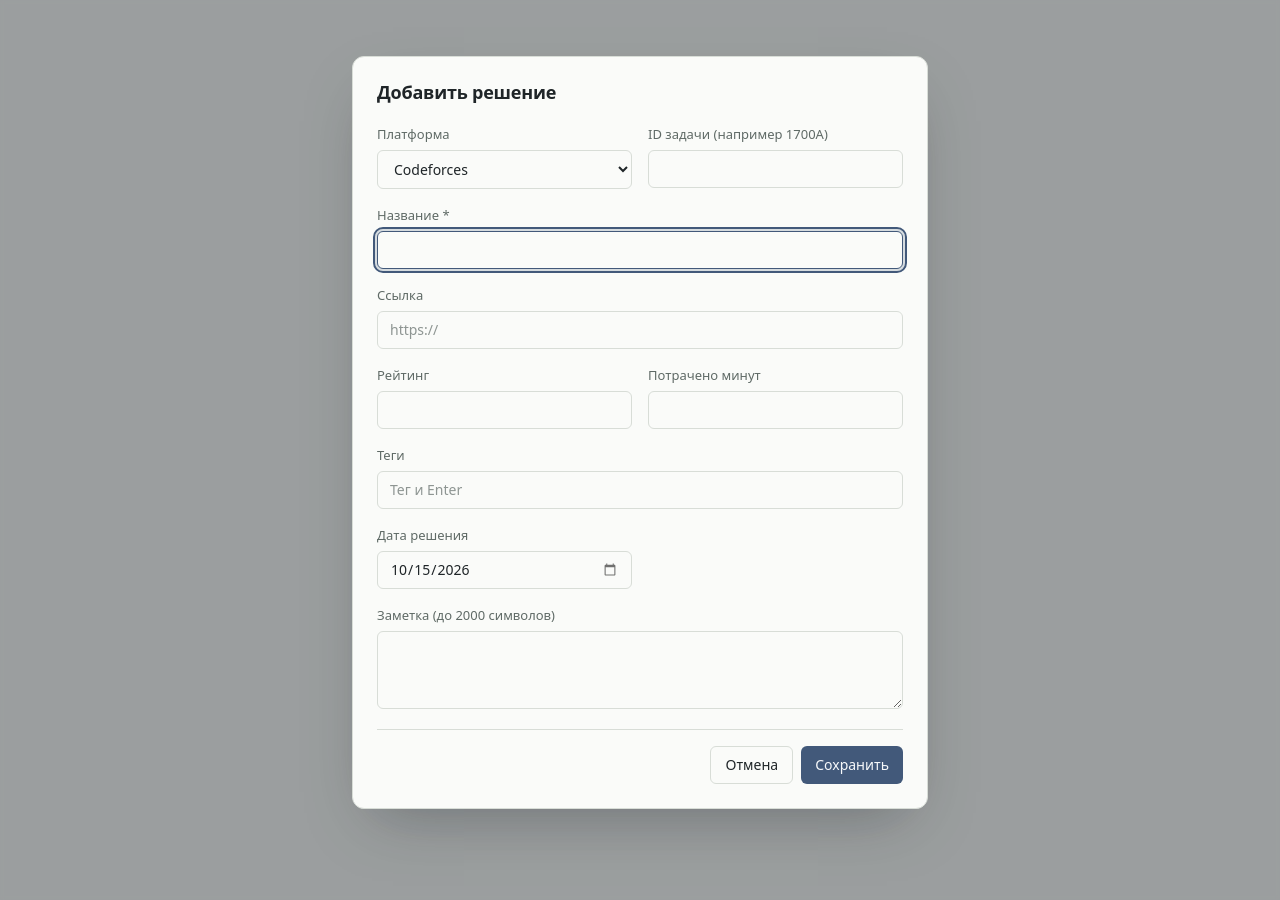
Test: <SolveFormModal> › shows the server error and stays open
In the field labelled "Название *": (640, 250) x1=377 y1=231 x2=903 y2=269, type "Dup"
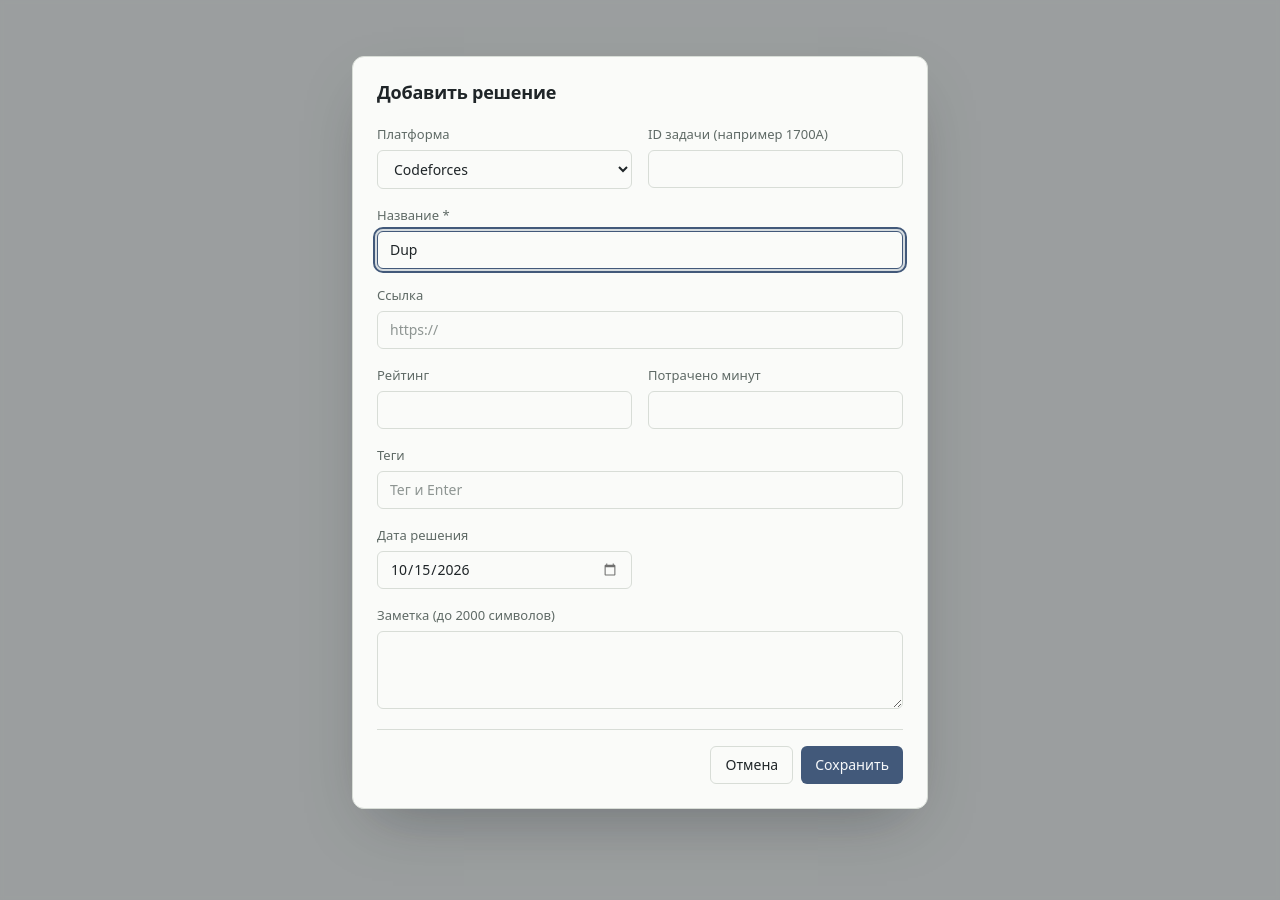
Click the button "Сохранить": click(852, 766) x1=801 y1=746 x2=903 y2=784
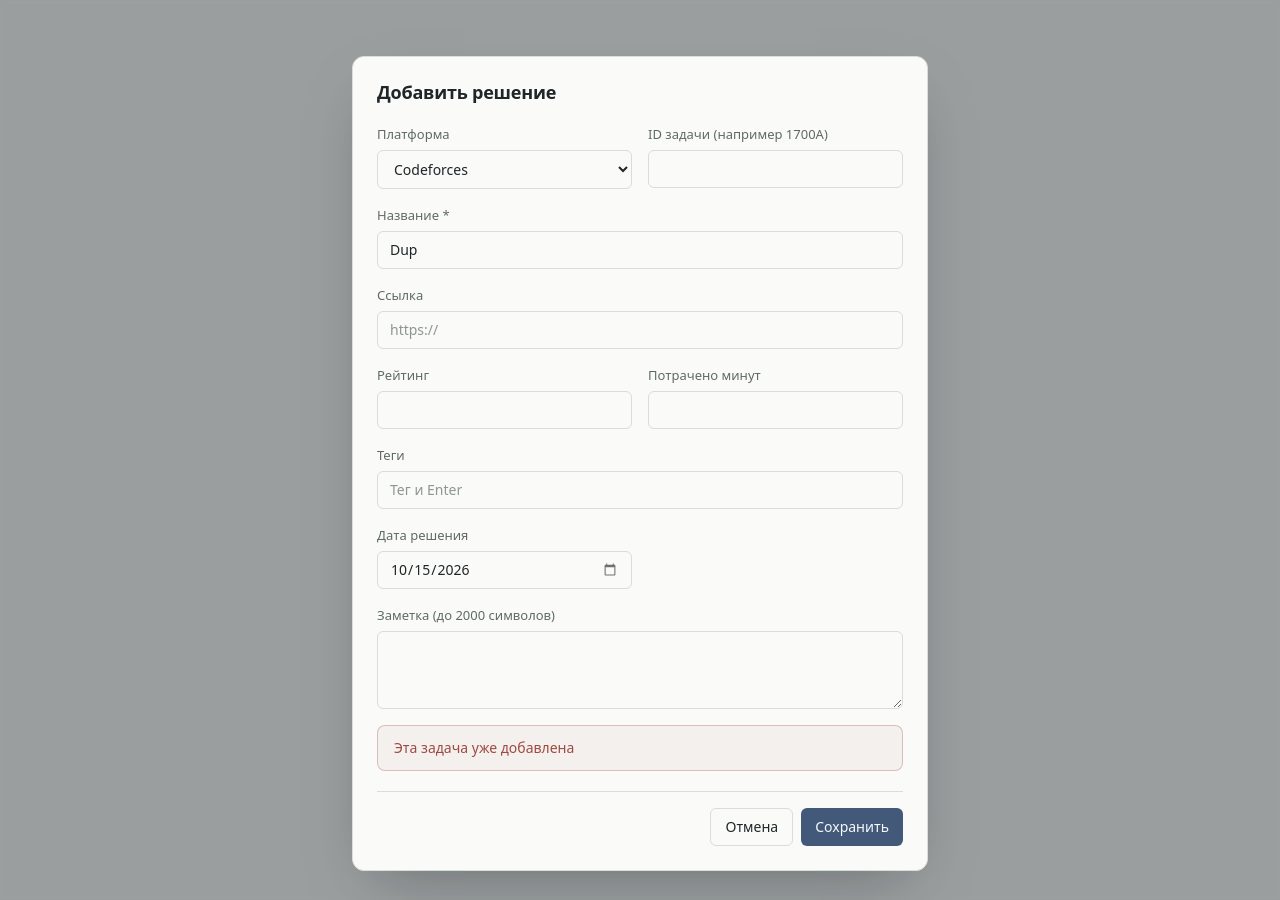
Check: the message reads "Эта задача уже добавлена", box x1=394 y1=738 x2=574 y2=758
